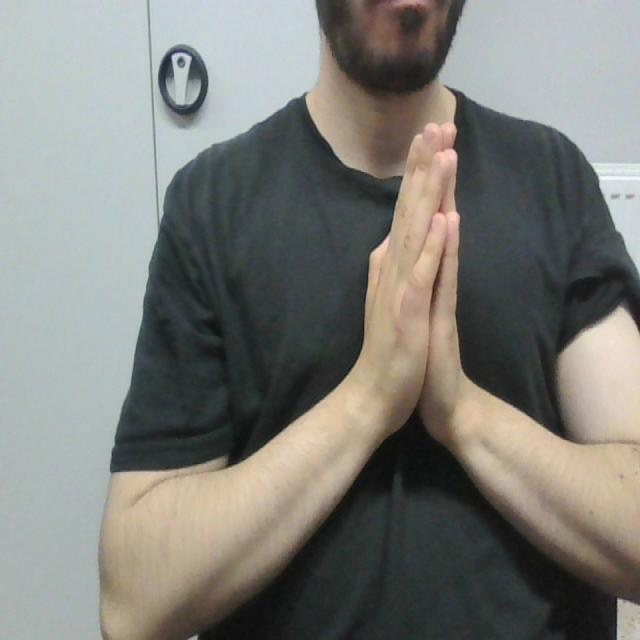Ozur-Dilemek: (349, 107, 485, 478)
